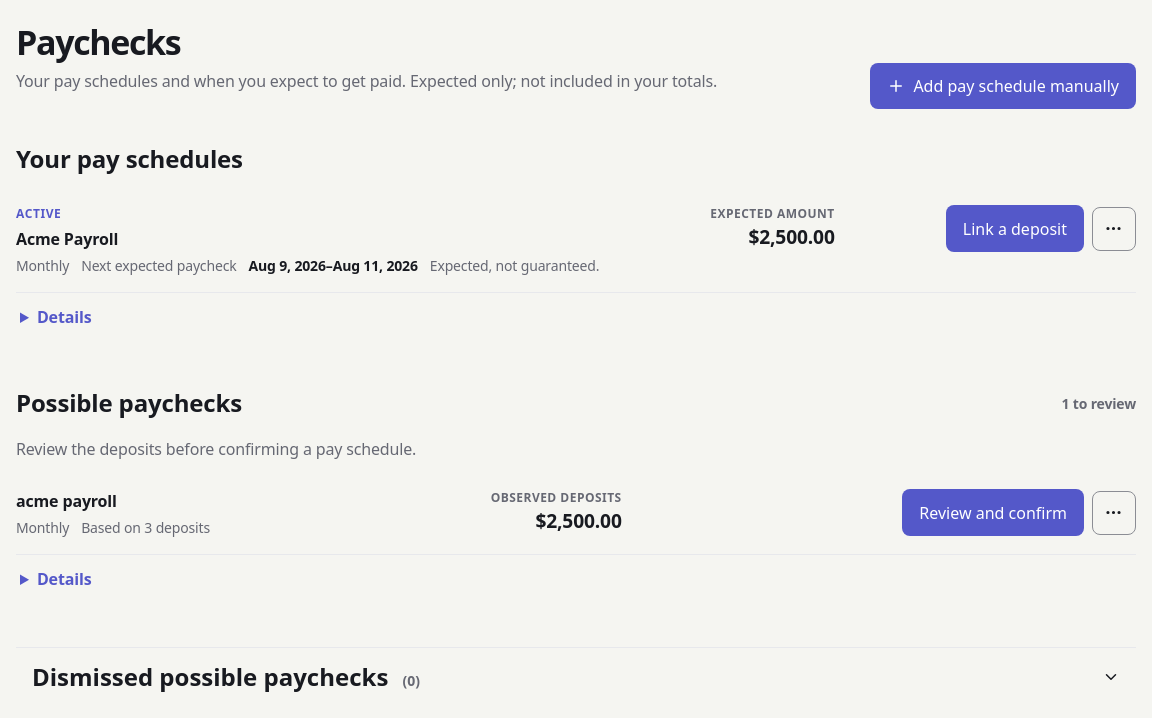
Test case: Paychecks page › clears an orphaned end confirmation when the refresh no longer includes the profile
Expected: the heading "Your pay schedules" is shown, x1=16 y1=141 x2=243 y2=177
Click the heading named "Details for Acme Payroll" at [64, 317], box x1=37 y1=306 x2=91 y2=328
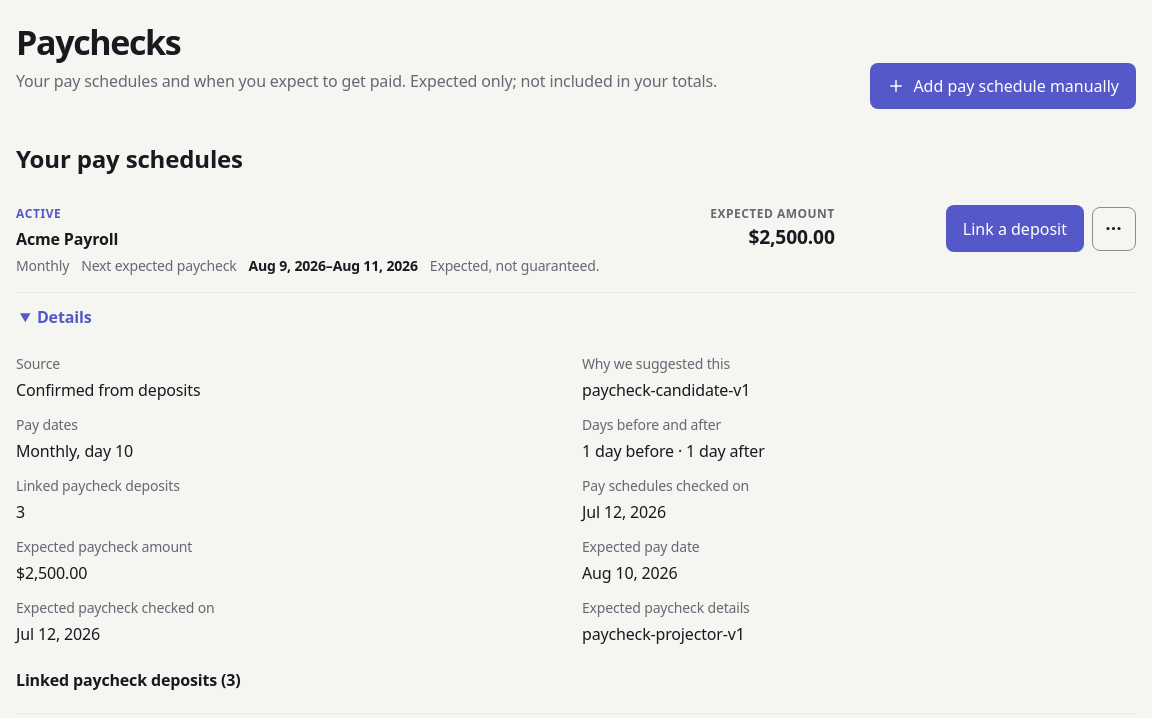
Click the button named "Actions for Acme Payroll" at [1114, 229], box x1=1092 y1=207 x2=1136 y2=251
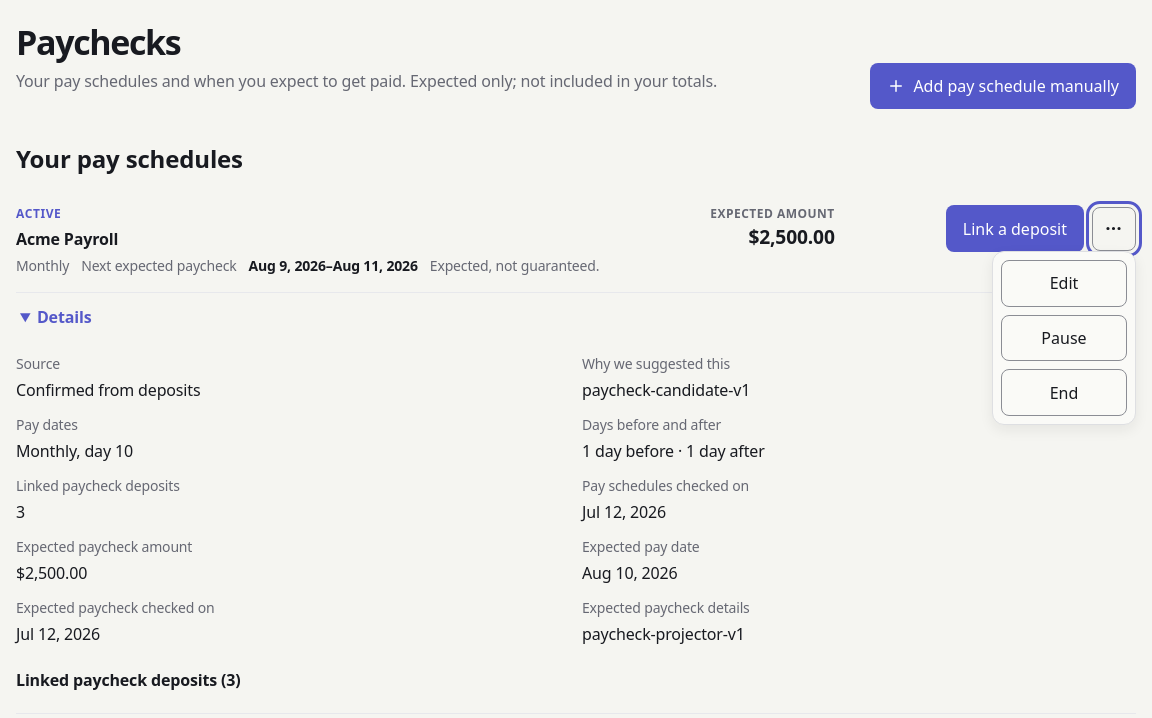
Click the button with aria-label "End Acme Payroll" at [1064, 393], box x1=1001 y1=369 x2=1127 y2=416
(page scrolled)
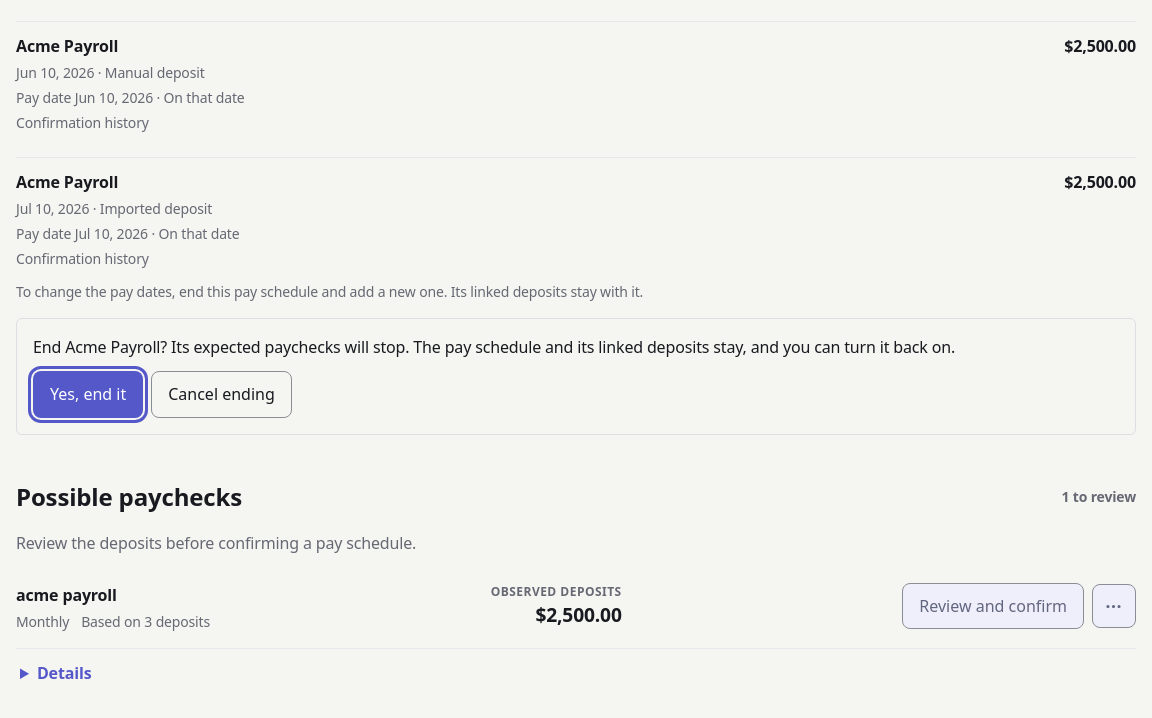
Click the button "Yes, end it" at [88, 394], box x1=33 y1=371 x2=143 y2=418
(page scrolled)
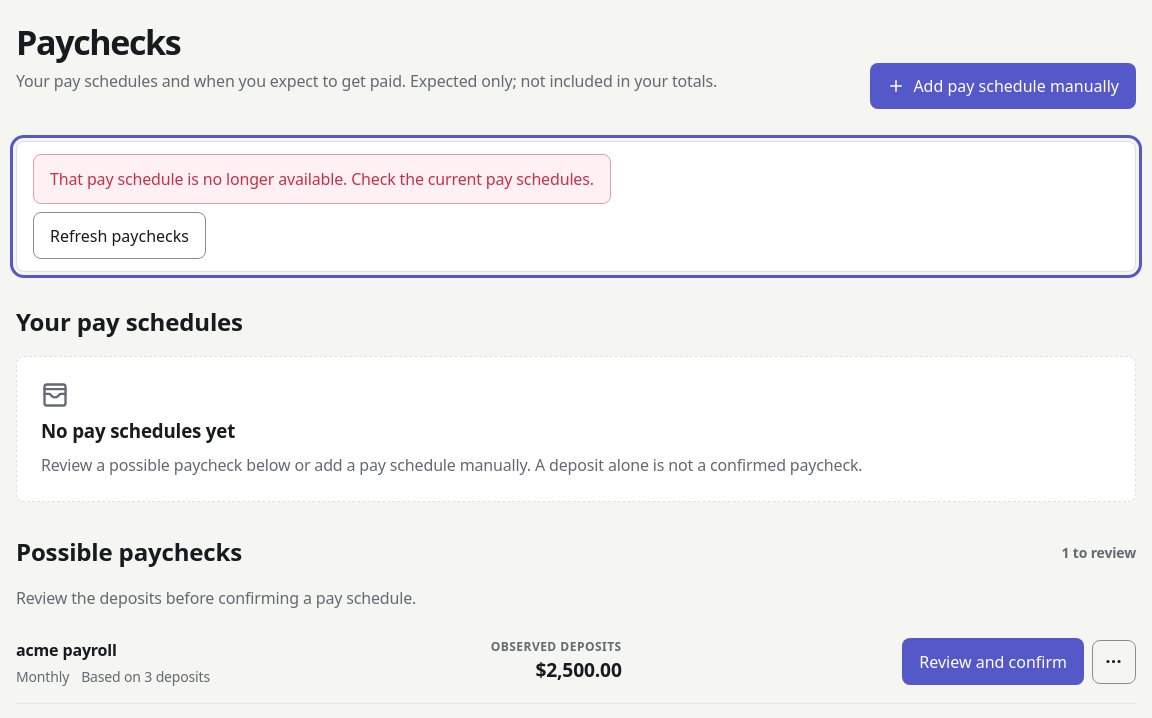
Now the message reads "That pay schedule is no longer available. Check the current pay schedules.", box x1=50 y1=168 x2=594 y2=190
Now the text "End Acme Payroll" is gone
Now the button with aria-label "Review and confirm: acme payroll" is enabled, box x1=902 y1=638 x2=1084 y2=685
